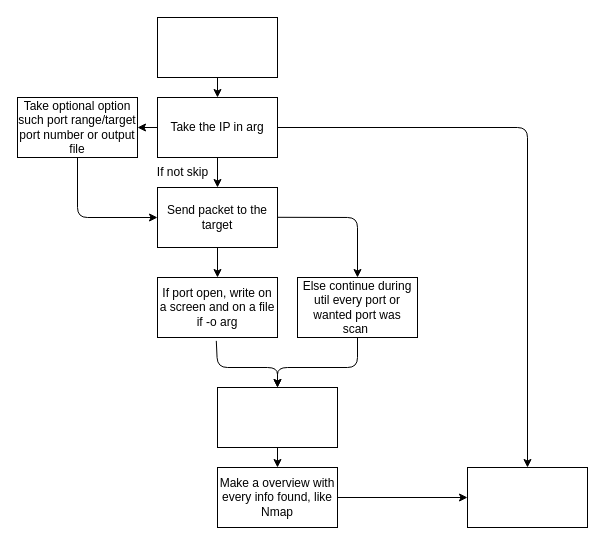
Some shapes in this 605 by 545 pixel diagram are drawn without their labels. The centre of each missing label's shape, as x and y in pixels:
Close the connection: (277,417)
CMAP: (217,47)
sys.exit(): (527,497)
